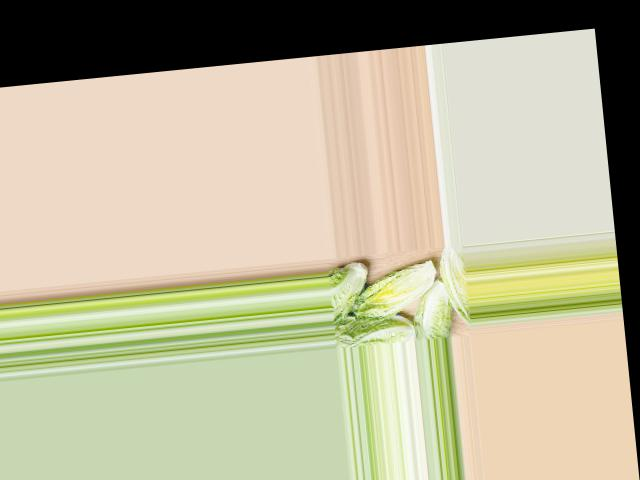lettuce: (436, 246, 472, 327)
